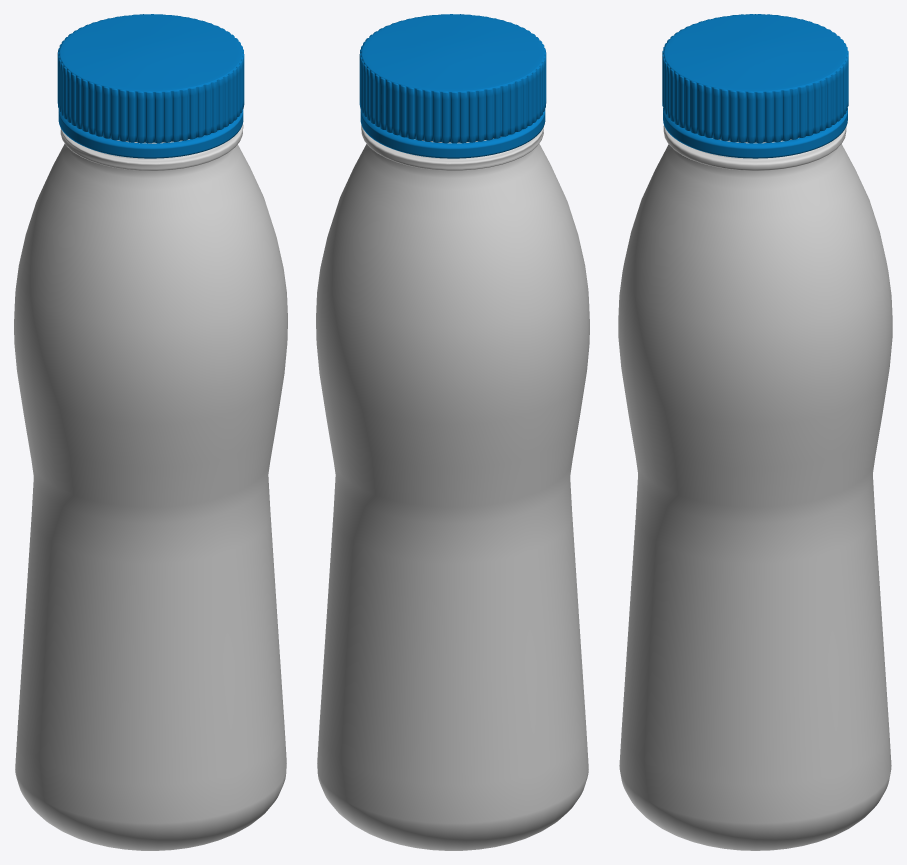
The model's file is yogurt.glb.
3 views of the same model, side by side, from view 1: azimuth 30°, elevation 25°; view 2: azimuth 150°, elevation 25°; view 3: azimuth 270°, elevation 25° (orthographic).
Visible parts, largest first — view 1: bottle_Mesh.002, cap_Cylinder.001, sub_cap_Cylinder.002; view 2: bottle_Mesh.002, cap_Cylinder.001, sub_cap_Cylinder.002; view 3: bottle_Mesh.002, cap_Cylinder.001, sub_cap_Cylinder.002.
Boxes of the visible parts, bbox=[...] form: bottle_Mesh.002: bbox=[14, 124, 287, 850]; cap_Cylinder.001: bbox=[57, 14, 244, 143]; sub_cap_Cylinder.002: bbox=[58, 108, 243, 158]; bottle_Mesh.002: bbox=[316, 125, 589, 850]; cap_Cylinder.001: bbox=[359, 14, 546, 143]; sub_cap_Cylinder.002: bbox=[360, 108, 545, 158]; bottle_Mesh.002: bbox=[618, 125, 892, 850]; cap_Cylinder.001: bbox=[662, 14, 848, 143]; sub_cap_Cylinder.002: bbox=[663, 108, 847, 158].
Bounding box in the file's own units: 0.6337 × 1.96 × 0.6337.
